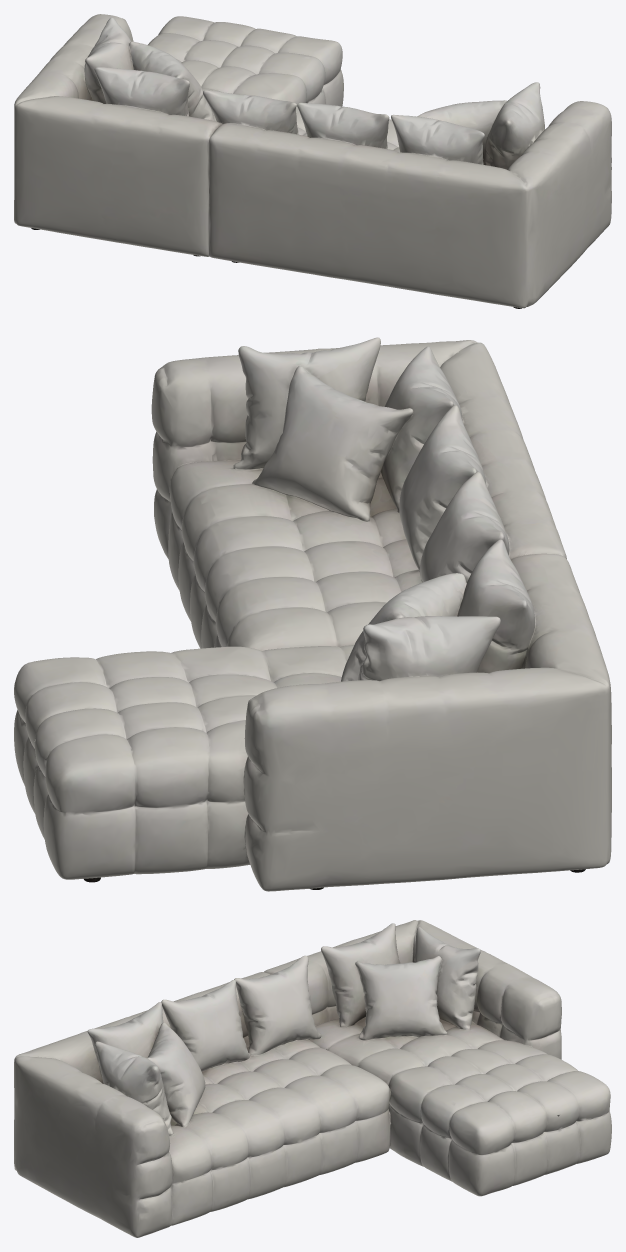
The model's file is caravanafurniture-com-products-ivory-modular-sectional-sofa--5c2e3a.glb.
3 renders of one model, top to bottom at view 1: azimuth 30°, elevation 25°; view 2: azimuth 150°, elevation 25°; view 3: azimuth 270°, elevation 25°, orthographic. The views are drawn at different scales.
Parts seen in each view (by area): view 1: tripo_node_5f58b8a7-867d-41fb-a48e-acab8ad19fa9; view 2: tripo_node_5f58b8a7-867d-41fb-a48e-acab8ad19fa9; view 3: tripo_node_5f58b8a7-867d-41fb-a48e-acab8ad19fa9.
Part boxes in pixels (<box>): tripo_node_5f58b8a7-867d-41fb-a48e-acab8ad19fa9: <box>14,14,611,308</box>; tripo_node_5f58b8a7-867d-41fb-a48e-acab8ad19fa9: <box>14,337,611,891</box>; tripo_node_5f58b8a7-867d-41fb-a48e-acab8ad19fa9: <box>14,920,611,1237</box>.
Size of the model in its own units: 0.9012 by 0.3089 by 1.1.
Materials: 1 (1 with a texture image).
